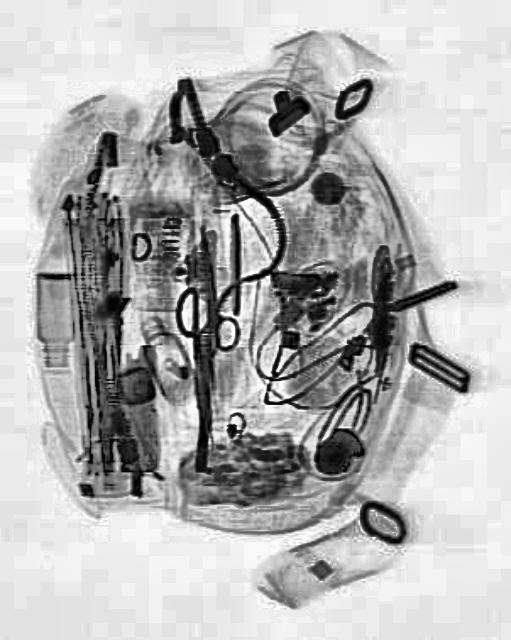Scissors: (164, 284, 238, 473)
